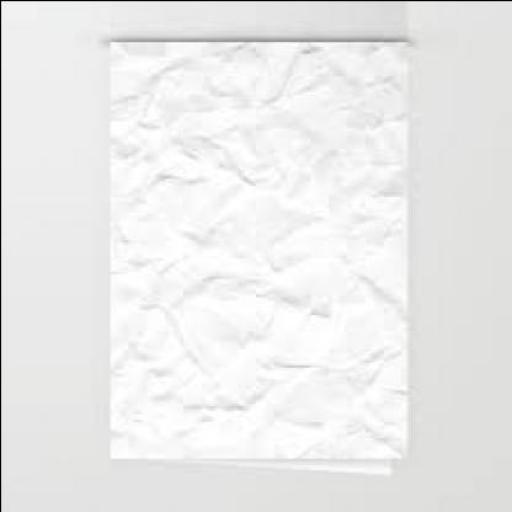paper: (102, 41, 405, 462), (125, 77, 389, 476)
